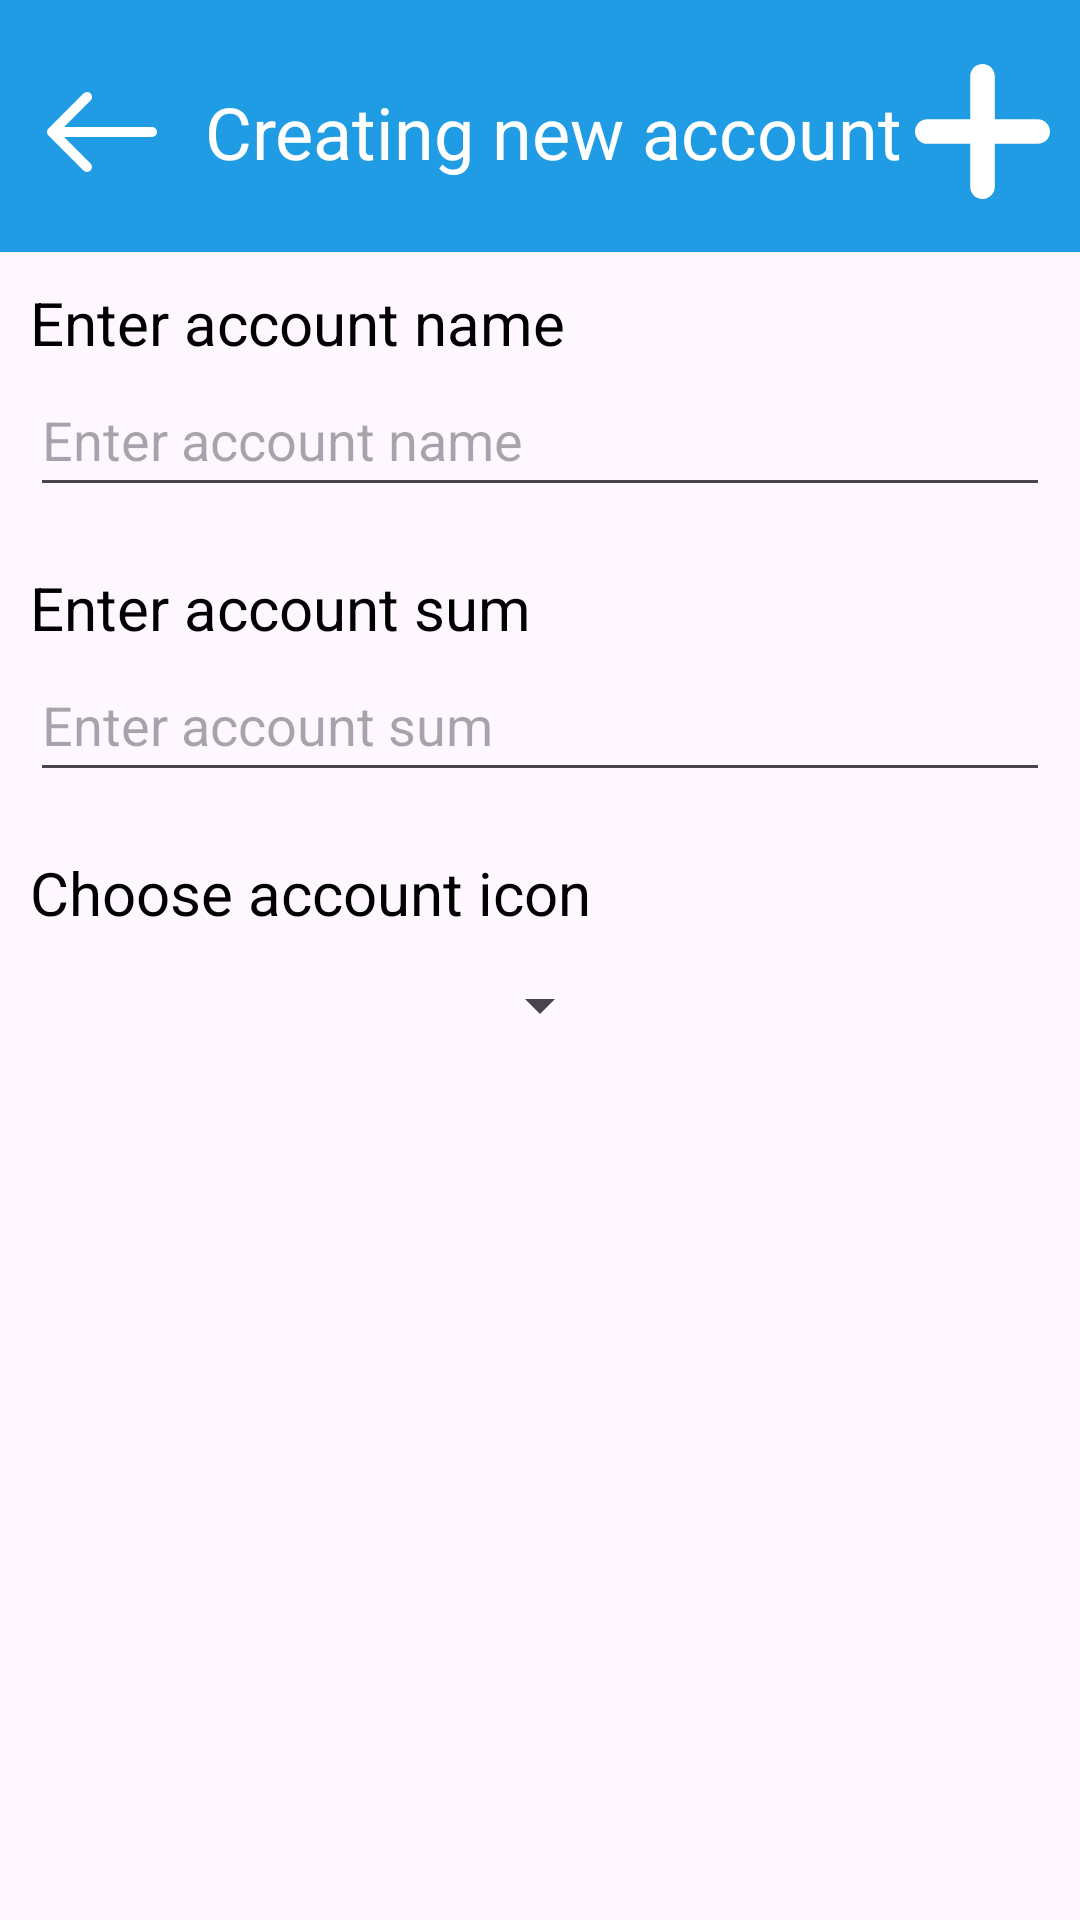

Named icons in this screenshot (1080x1920) and their bounding boxes, {"left": x1, "top": y1, "right": x2, "bottom": y2}:
back: {"left": 47, "top": 92, "right": 157, "bottom": 172}
plus: {"left": 915, "top": 64, "right": 1050, "bottom": 199}
